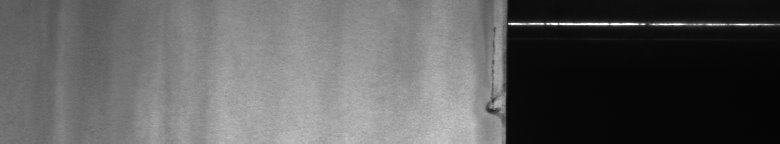hb: (478, 4, 496, 122)
